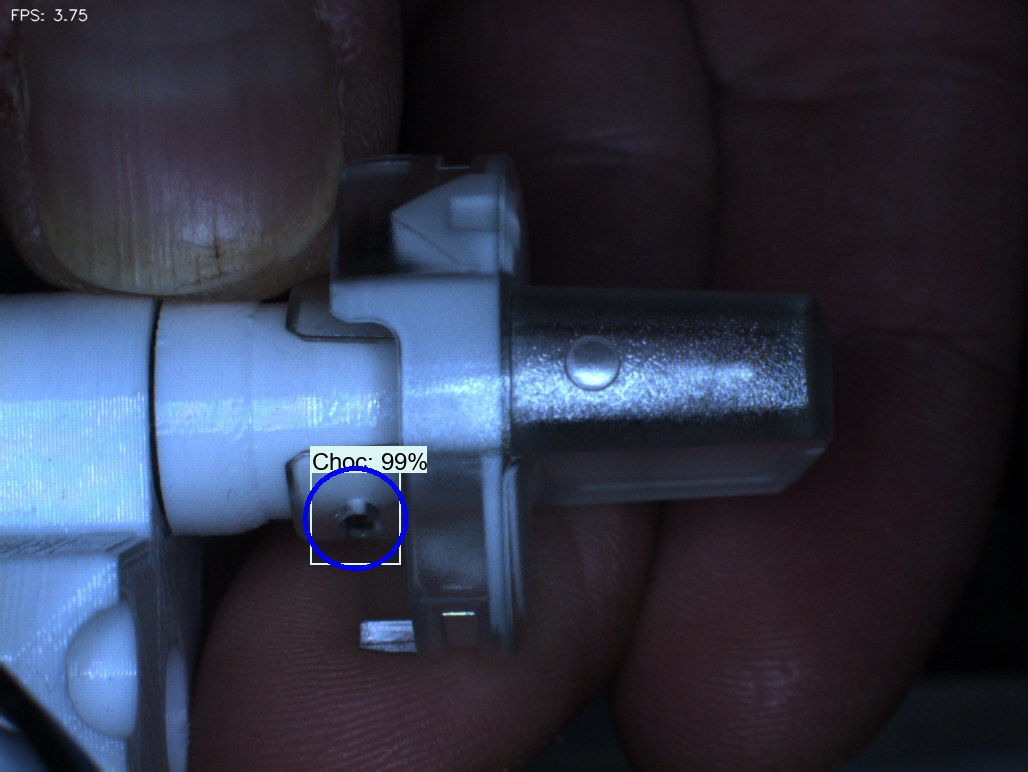DentOk: (365, 184, 441, 275)
